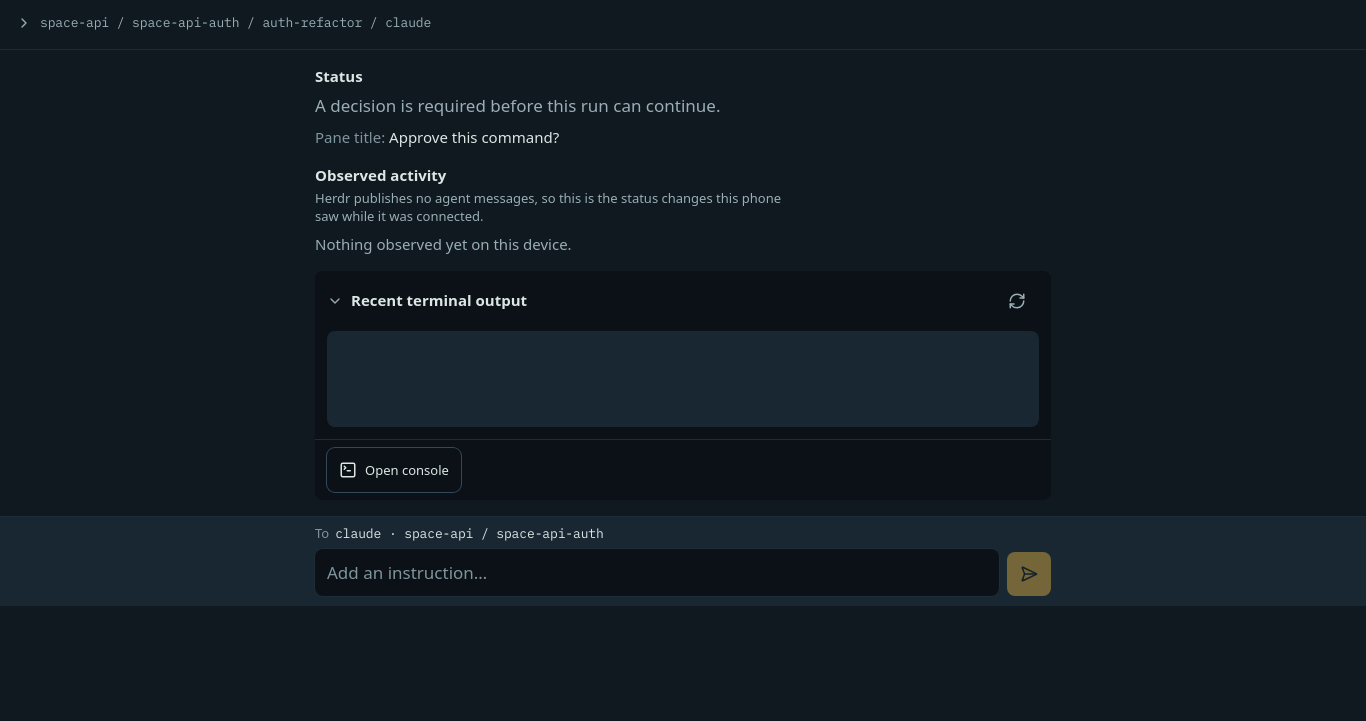
Test case: Run detail — instruction delivery › sends the canonical pane id and generation, and records the instruction
The width and height of the screenshot is (1366, 721).
In the text box named "instruction for claude": (657, 572) 315,549 -> 999,596, type "continue"
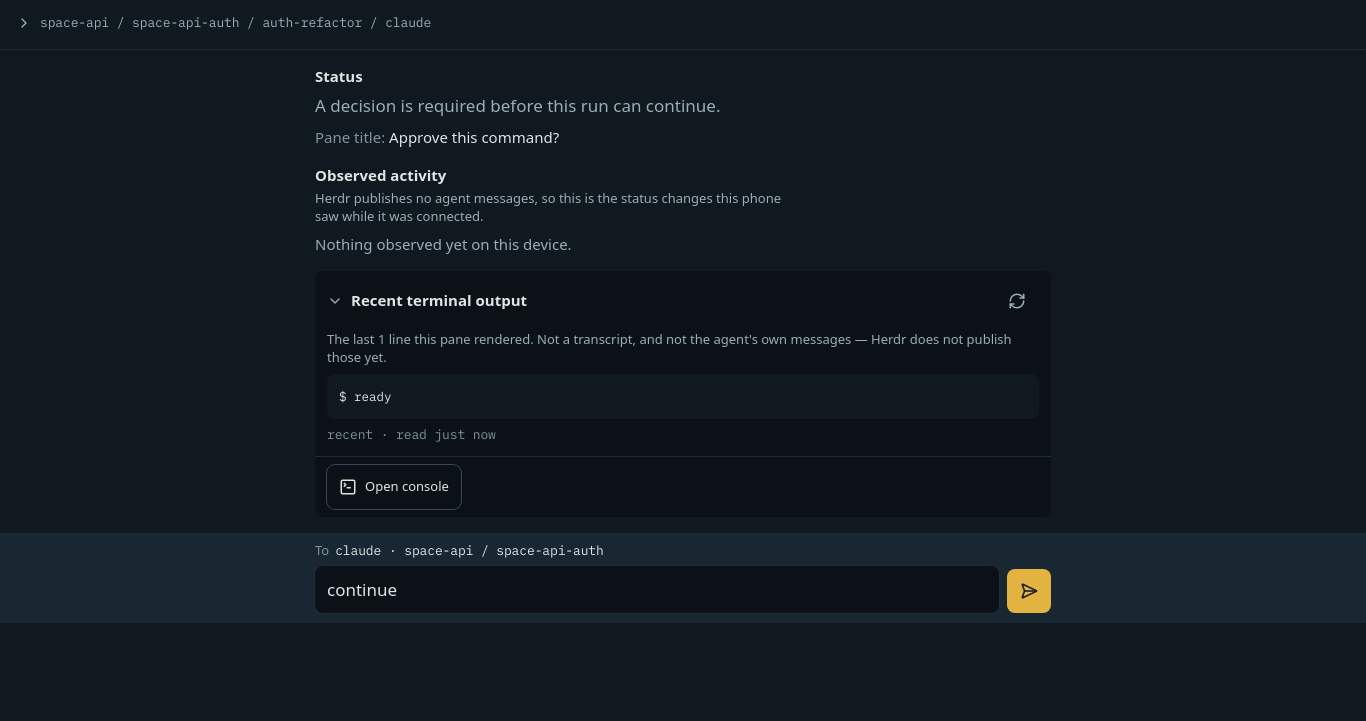
Expected: the button named "send instruction" is enabled
Click the button named "send instruction": (1029, 591) 1007,569 -> 1051,613
(page scrolled)
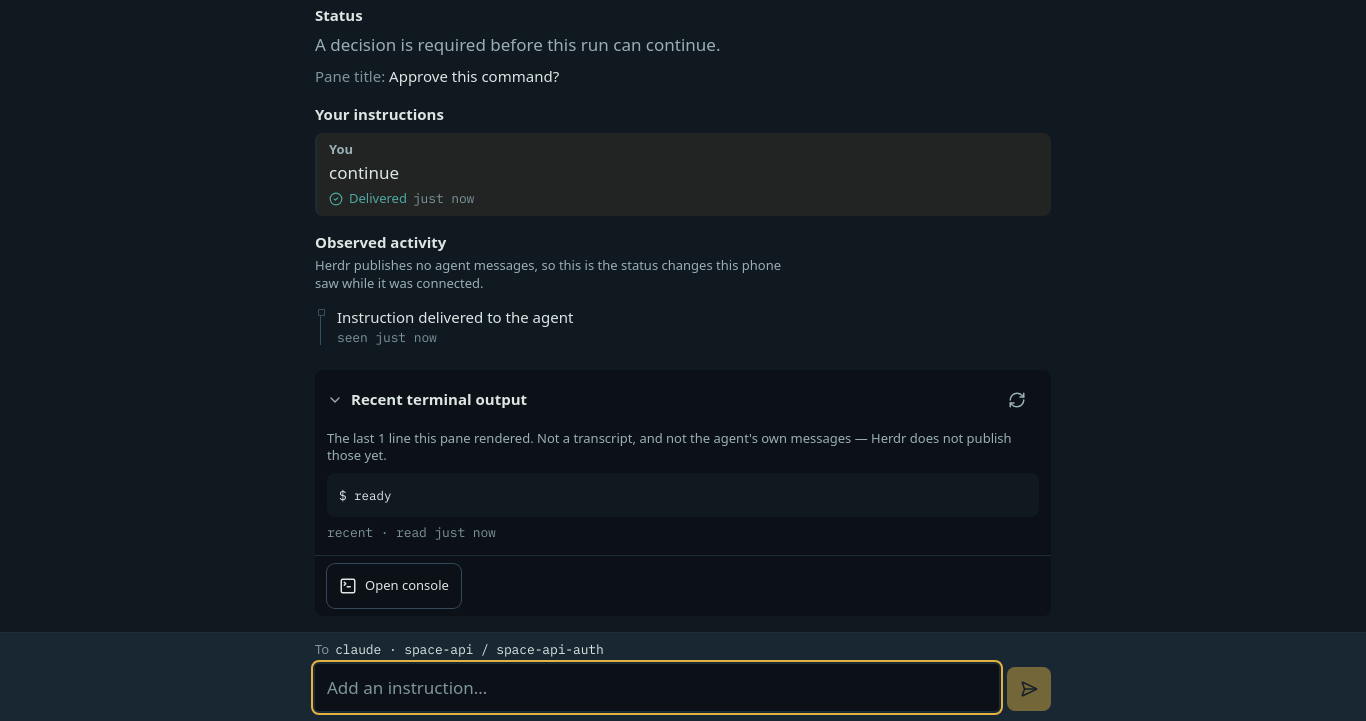
Expected: the text "Delivered" is shown, 349,189 -> 407,207
